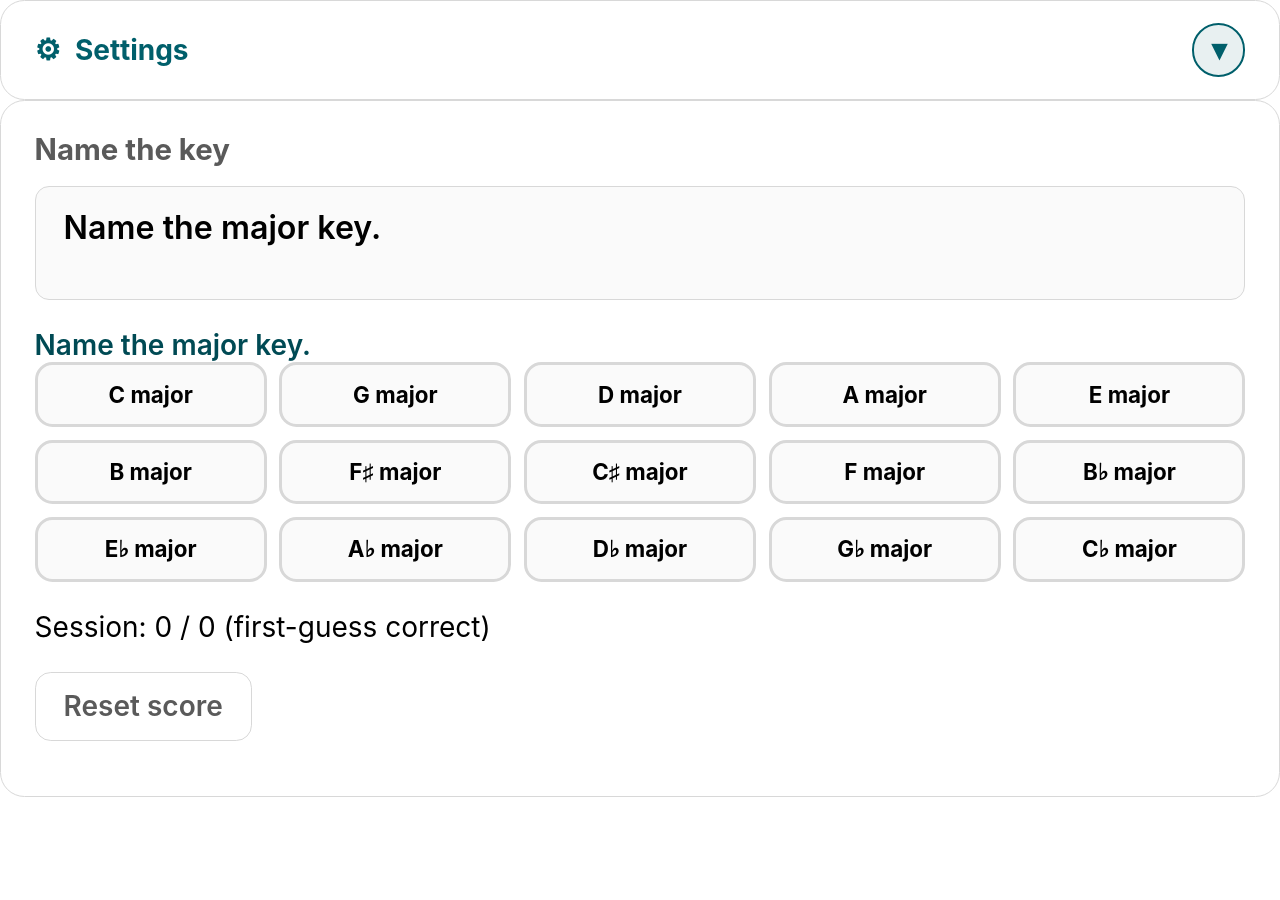
Test: KeySignaturesTopic — first-guess scoring (docs/15-theory-topics/02 §6) › counts a first-try correct answer as total+1, correct+1
Click the button "C major" at (151, 395), box [35, 362, 267, 427]
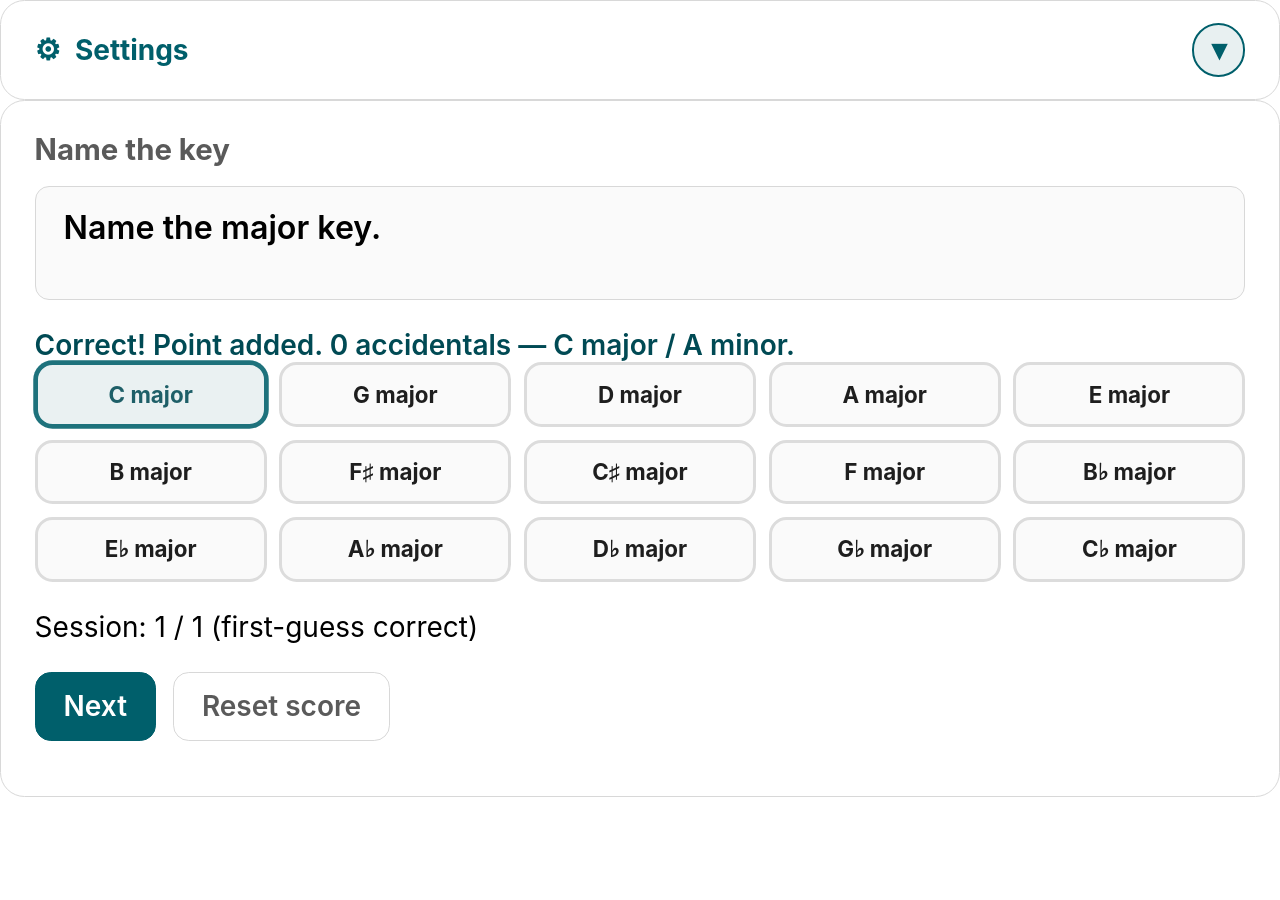
Expected: the text "Session: 1 / 1 (first-guess correct)" is shown, [35, 610, 478, 644]
